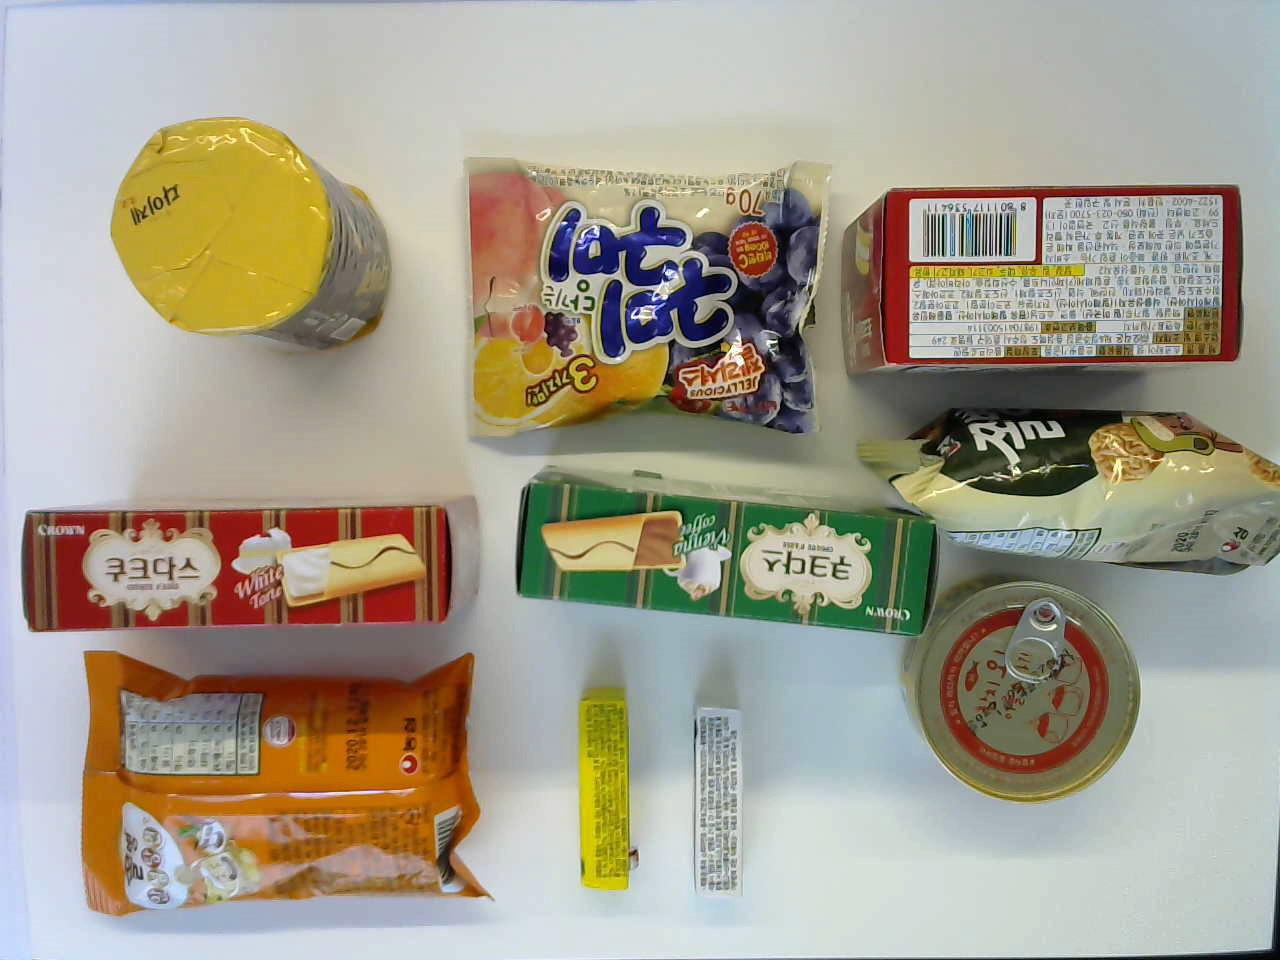chocopie: (837, 179, 1247, 398)
couque_coffee: (508, 462, 943, 634)
couque_white: (15, 497, 487, 629)
diget_choco: (103, 114, 395, 356)
gumi_gumi: (456, 151, 822, 434)
jjolbyung_noodle: (73, 649, 500, 908)
jjolbyung_ori: (870, 406, 1280, 576)
juicyfresh: (568, 683, 644, 890)
spearmint: (687, 696, 753, 895)
tuna: (902, 577, 1144, 806)
